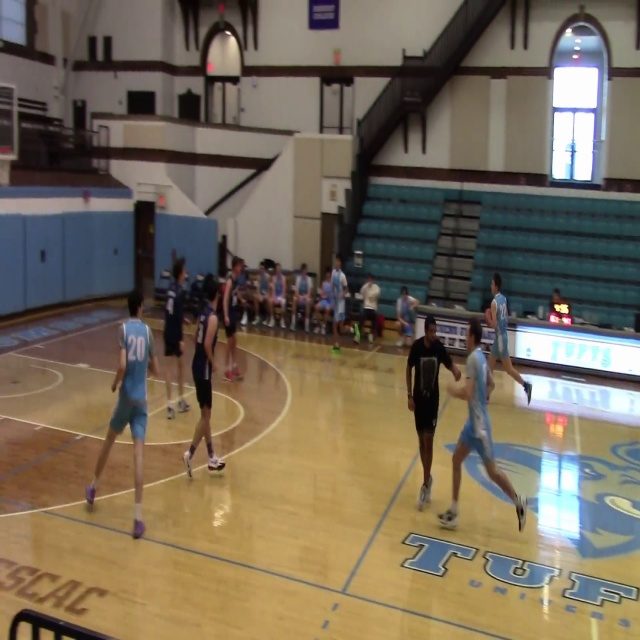Basketball: (446, 381, 469, 400)
